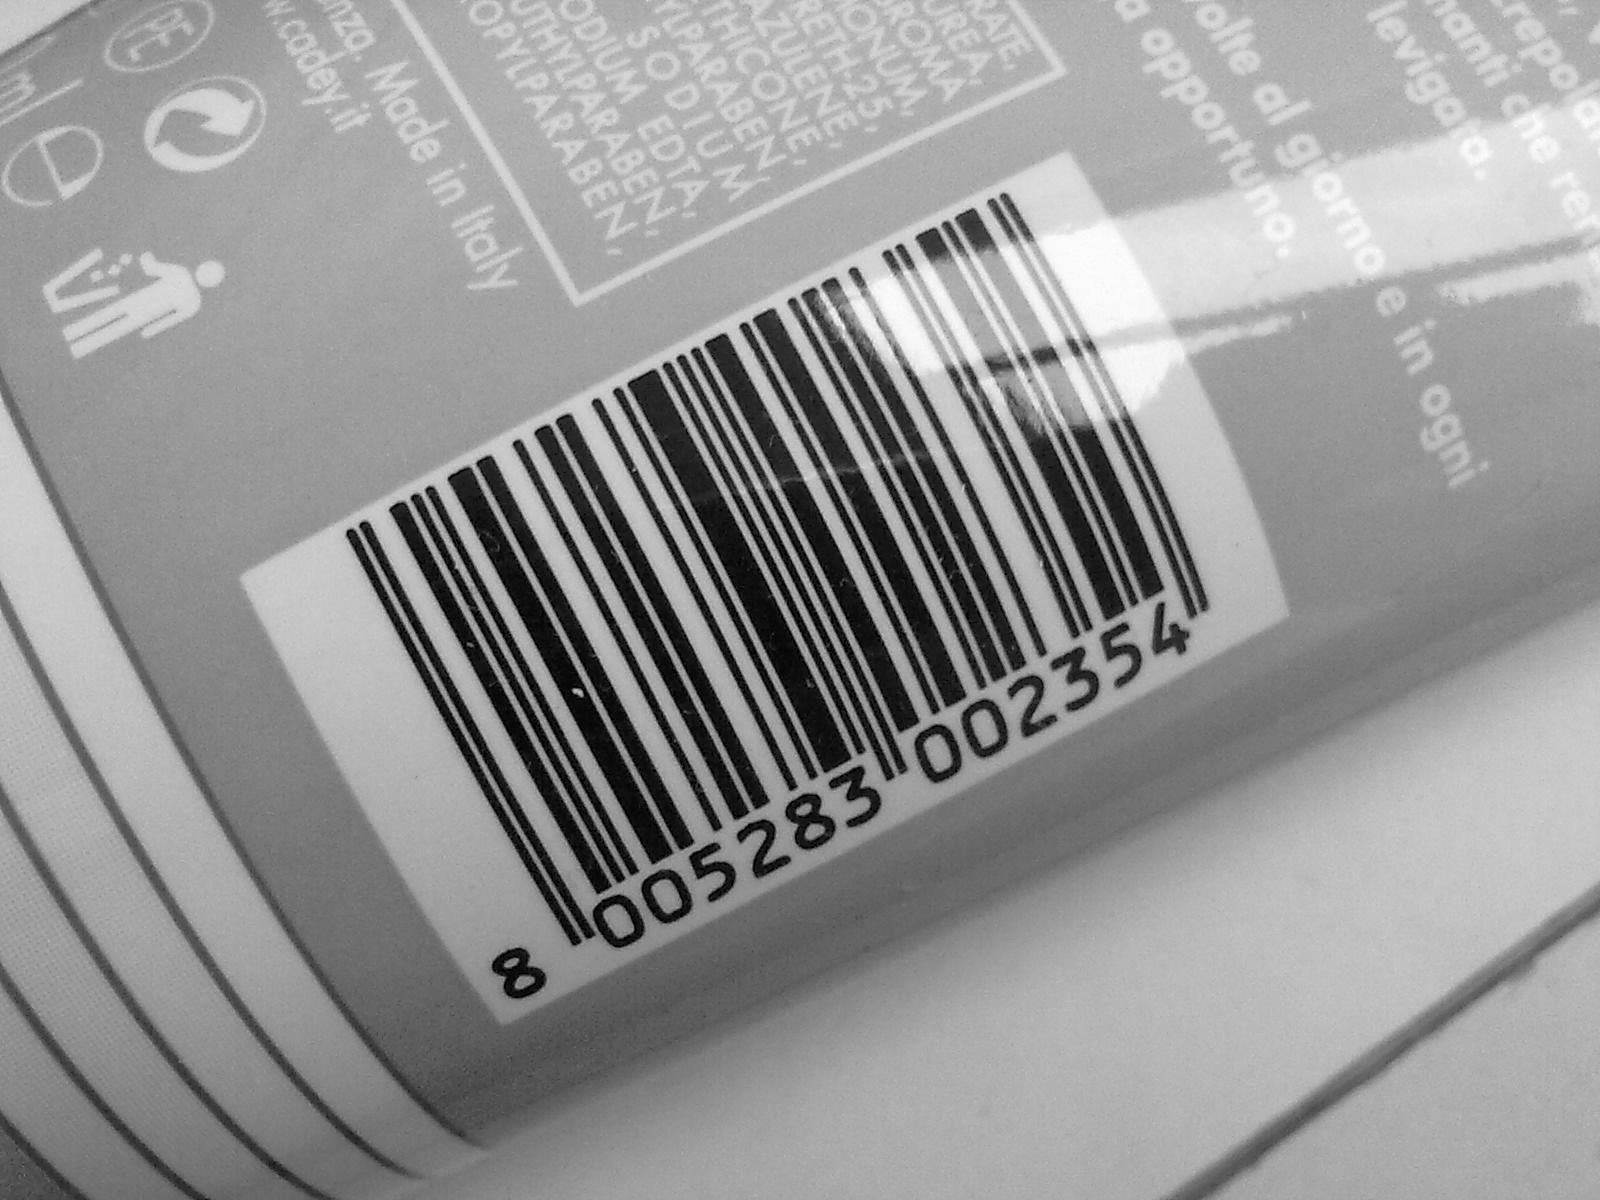Barcode: (341, 192, 1204, 924)
